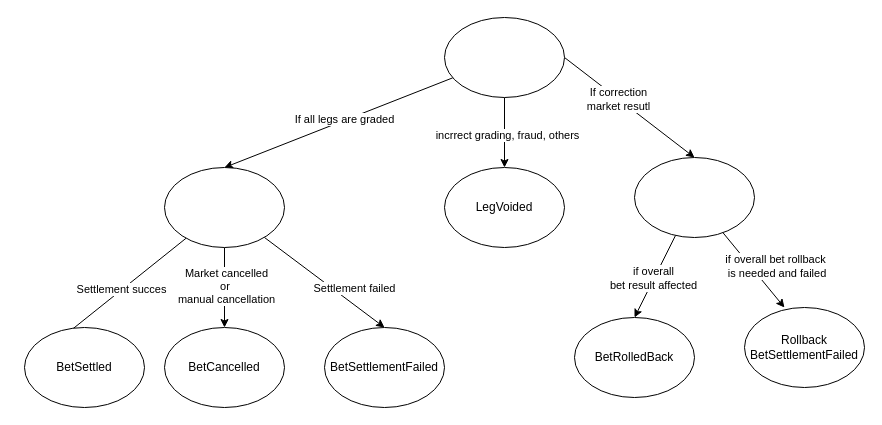
This 882x425 diagram has some shape labels left out. The shapes that lost their labels are listed below. From the top down, each one's centre as x and y in pixels, then its label:
At point (504, 57): "LegGraded".
At point (224, 207): "BetGraded".
At point (694, 197): "LegRolledBack".
